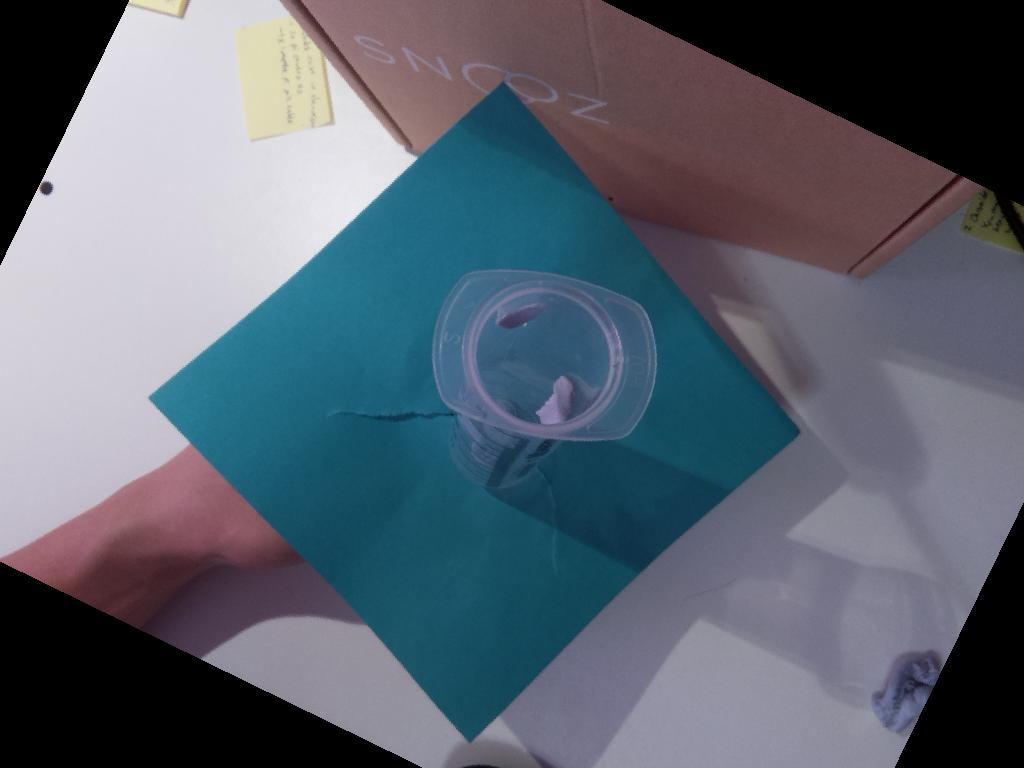dirty: (430, 267, 659, 440)
